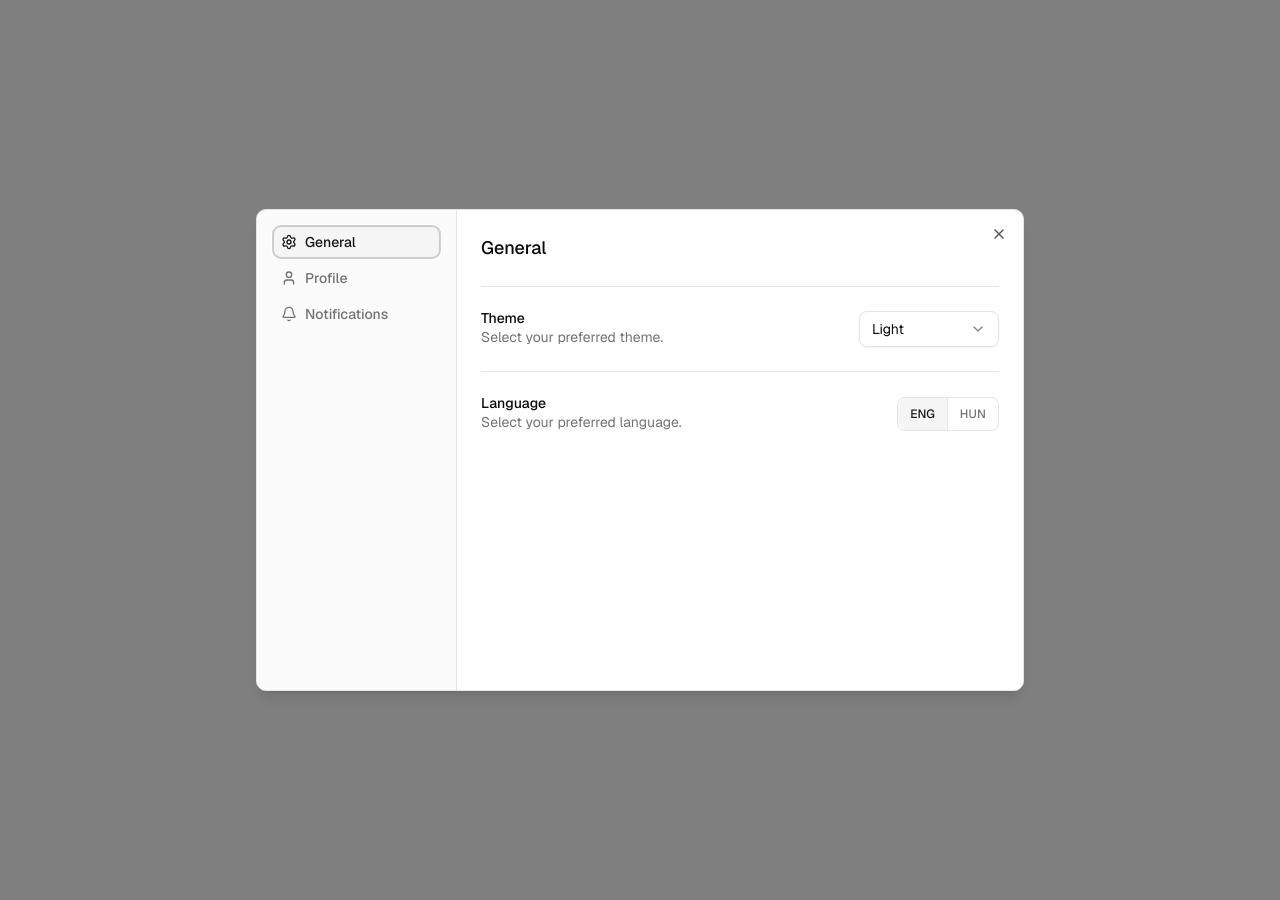
Test case: SettingsDialog › switches between sections via the nav
Click the button "Profile" at (356, 278), box [273, 262, 440, 294]
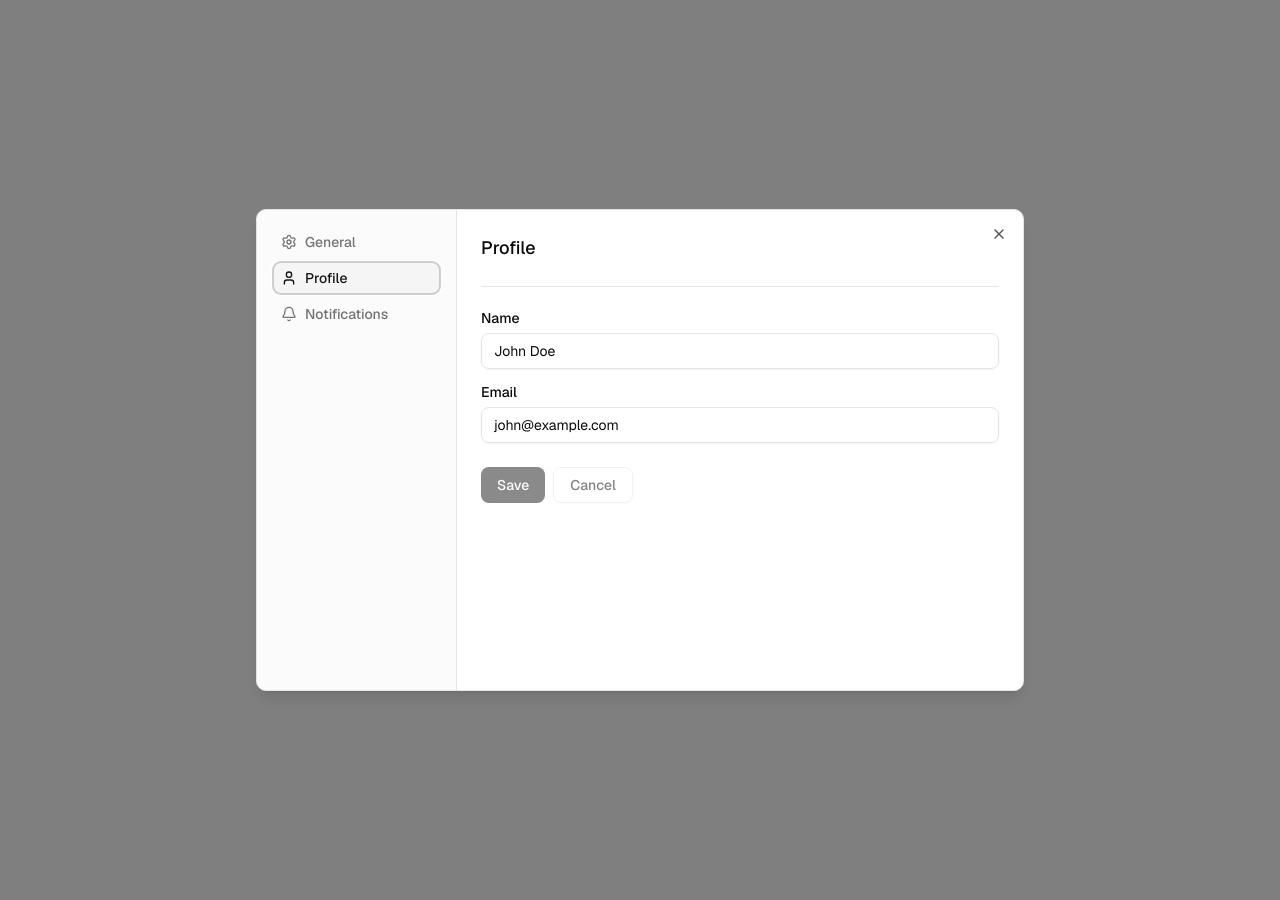
Check: the heading "Profile" is shown, box [481, 236, 536, 259]
Check: the field labelled "Name" is shown, box [481, 333, 999, 369]
Click the button "Notifications" at (356, 314), box [273, 298, 440, 330]
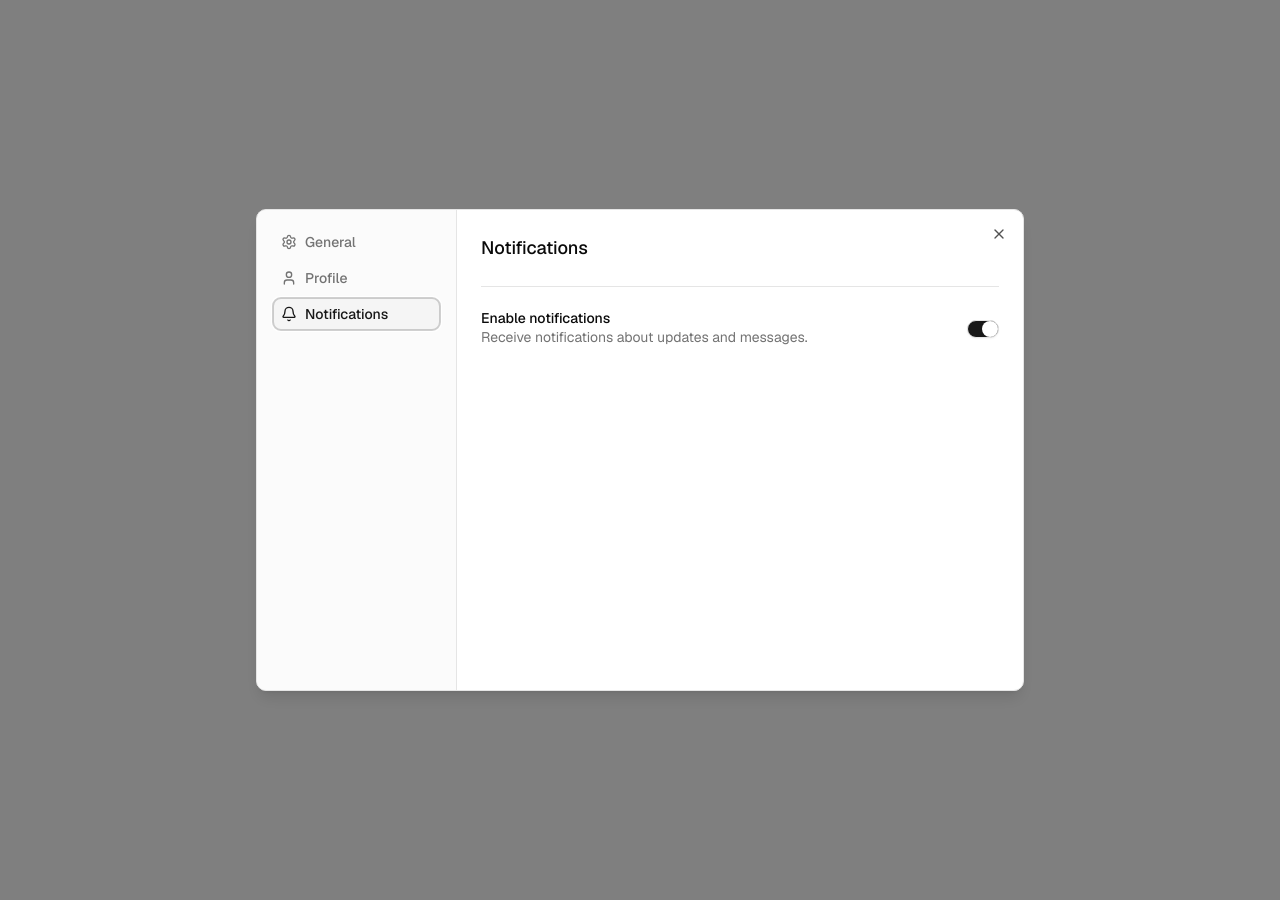
Check: the heading "Notifications" is shown, box [481, 236, 588, 259]
